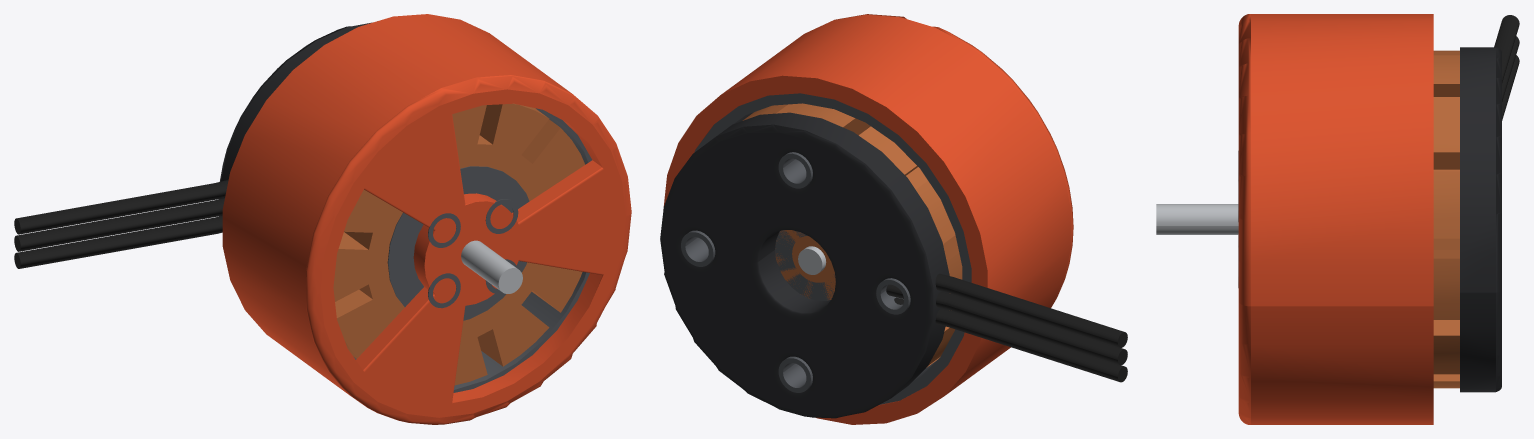
File: betafpv-1506-4200kv.glb
3 renders of one model, left to right at view 1: azimuth 30°, elevation 25°; view 2: azimuth 150°, elevation 25°; view 3: azimuth 270°, elevation 25°, orthographic. The views are drawn at different scales.
Visible parts, largest first — view 1: bell, stator_windings, stator_core, lead_3, lead_2, lead_1, magnets, base, shaft; view 2: base, bell, stator_windings, magnets, lead_2, lead_1, lead_3, stator_core, mount_hole_3, mount_hole_1, mount_hole_4, mount_hole_2 (+1 smaller); view 3: bell, base, stator_windings, shaft, lead_3, lead_1, lead_2.
Part boxes in pixels (left/top/right/bottom): bell: left=222, top=14, right=631, bottom=424; stator_windings: left=333, top=103, right=585, bottom=385; stator_core: left=387, top=166, right=529, bottom=320; lead_3: left=14, top=180, right=228, bottom=234; lead_2: left=14, top=198, right=224, bottom=251; lead_1: left=14, top=215, right=222, bottom=268; magnets: left=354, top=108, right=591, bottom=392; base: left=219, top=22, right=371, bottom=215; shaft: left=461, top=240, right=522, bottom=293; base: left=660, top=112, right=949, bottom=418; bell: left=663, top=14, right=1073, bottom=424; stator_windings: left=742, top=103, right=962, bottom=367; magnets: left=694, top=93, right=971, bottom=404; lead_2: left=886, top=284, right=1127, bottom=365; lead_1: left=894, top=297, right=1127, bottom=382; lead_3: left=935, top=273, right=1127, bottom=347; stator_core: left=775, top=230, right=835, bottom=300; mount_hole_3: left=778, top=356, right=812, bottom=392; mount_hole_1: left=778, top=152, right=812, bottom=188; mount_hole_4: left=681, top=230, right=715, bottom=266; mount_hole_2: left=876, top=278, right=910, bottom=314; bell: left=1238, top=14, right=1433, bottom=424; base: left=1460, top=47, right=1501, bottom=392; stator_windings: left=1433, top=50, right=1459, bottom=388; shaft: left=1156, top=204, right=1238, bottom=234; lead_3: left=1494, top=15, right=1519, bottom=82; lead_1: left=1502, top=55, right=1519, bottom=120; lead_2: left=1502, top=36, right=1519, bottom=101.
Size of the model in its own units: 30.46 by 19.97 by 17.65.
